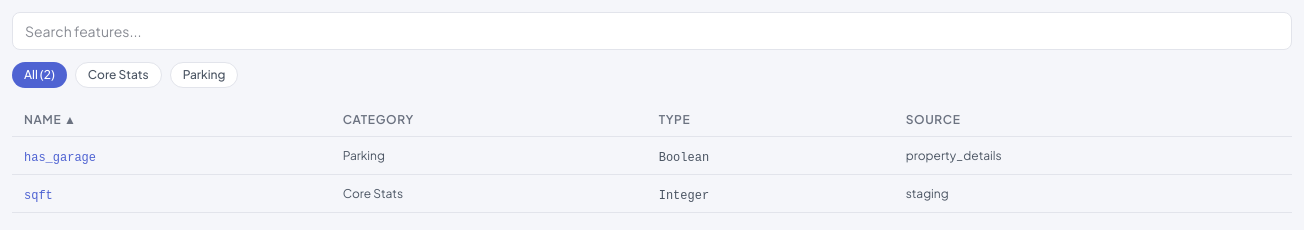
FeatureCatalogTable › filters by search text
Type "garage" into the field with placeholder "Search features..." at coordinates (652, 31), box [12,12,1292,50]
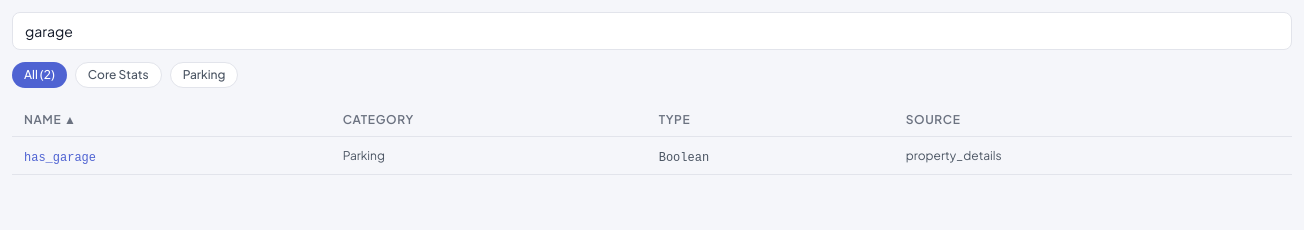
Expected: the button "has_garage" is shown, [24,150,96,166]
Result: the button "sqft" is gone
